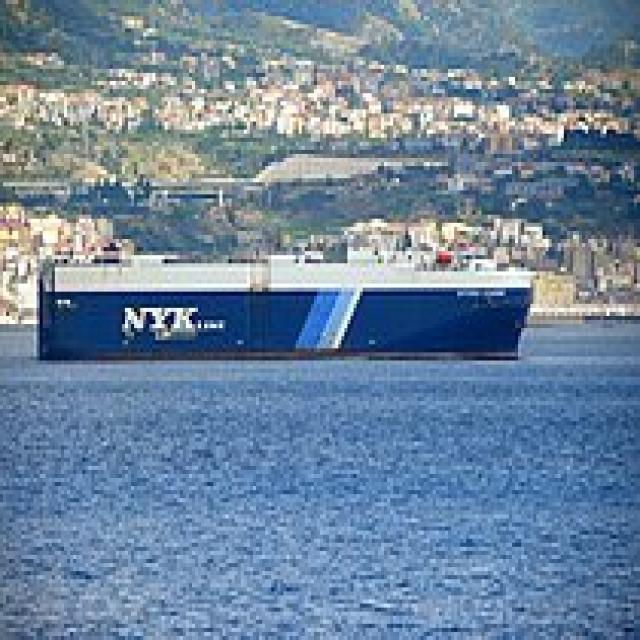Carrier: (24, 243, 536, 365)
